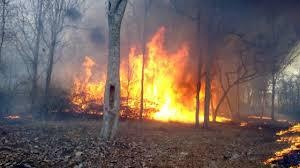fire: (123, 29, 225, 123), (68, 55, 107, 112)
